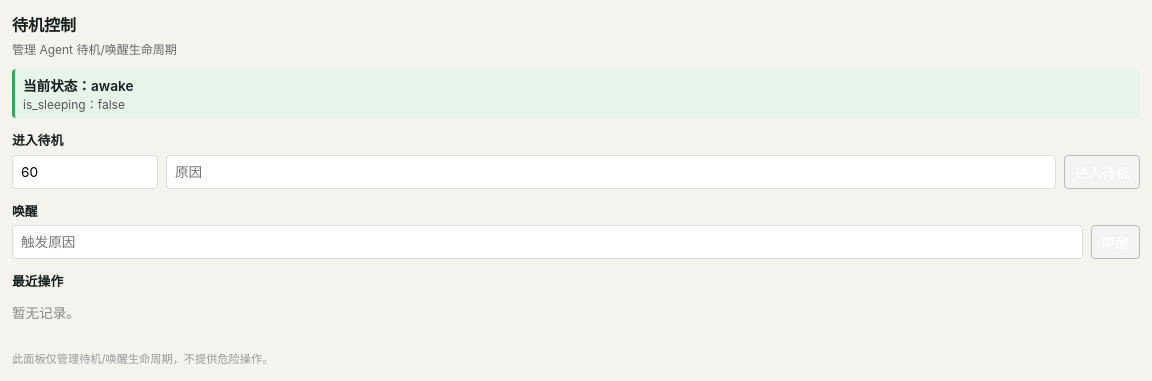
Test: SleepWakePanel › sleeps and shows sleeping state
Check: the text "当前状态：awake" is shown, box [23, 78, 133, 94]
Click the button "进入待机". click: (1102, 172)
box: [1064, 155, 1140, 189]
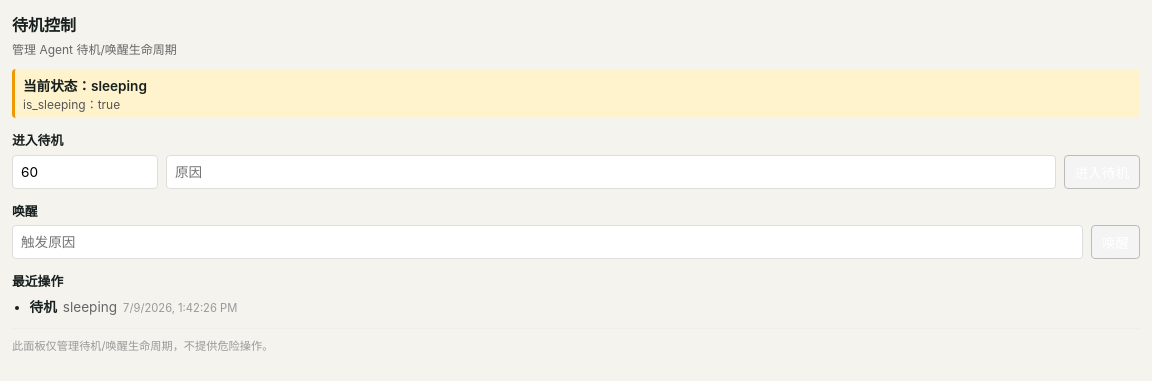
Check: the text "当前状态：sleeping" is shown, box [23, 78, 147, 94]
